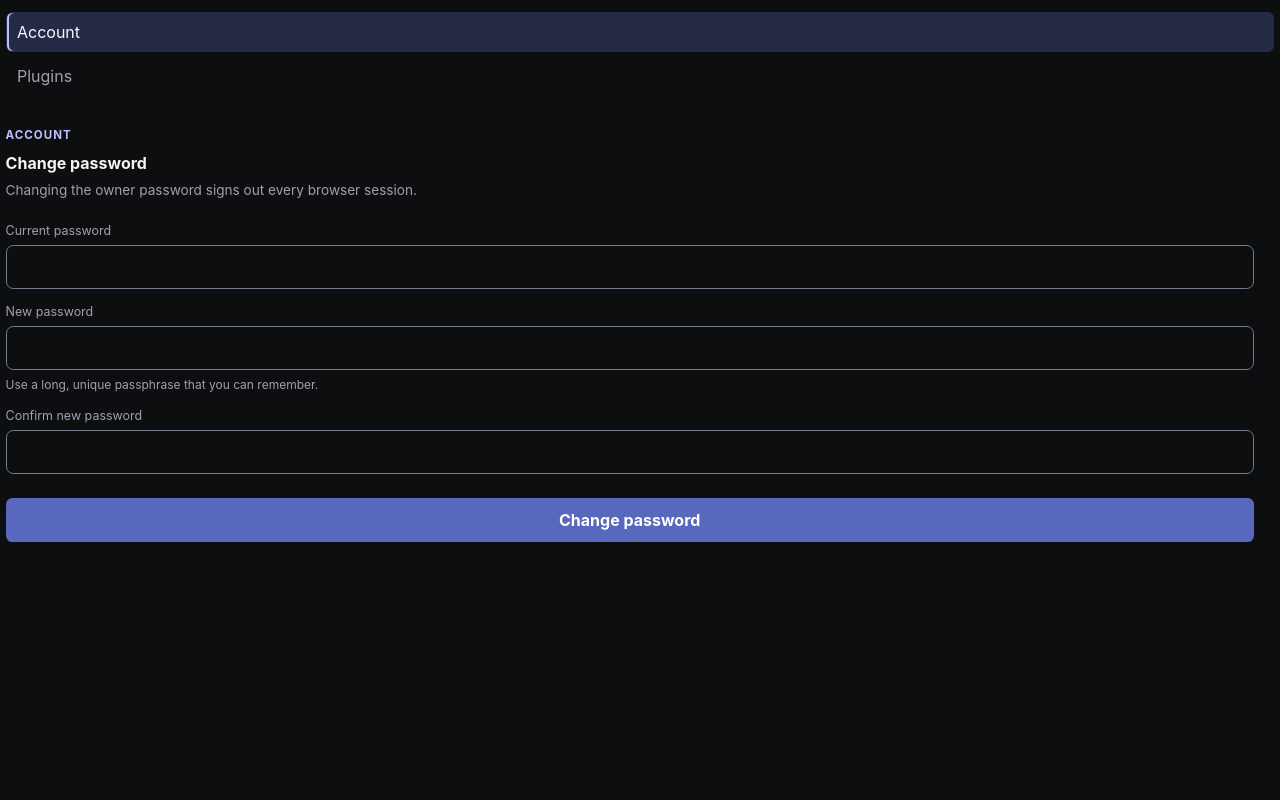
Test: owner Settings › rejects mismatched confirmation locally without transmitting credentials
The image size is (1280, 800).
In the password field labelled "Current password": x=630, y=267 [6,245,1254,289], type "old"
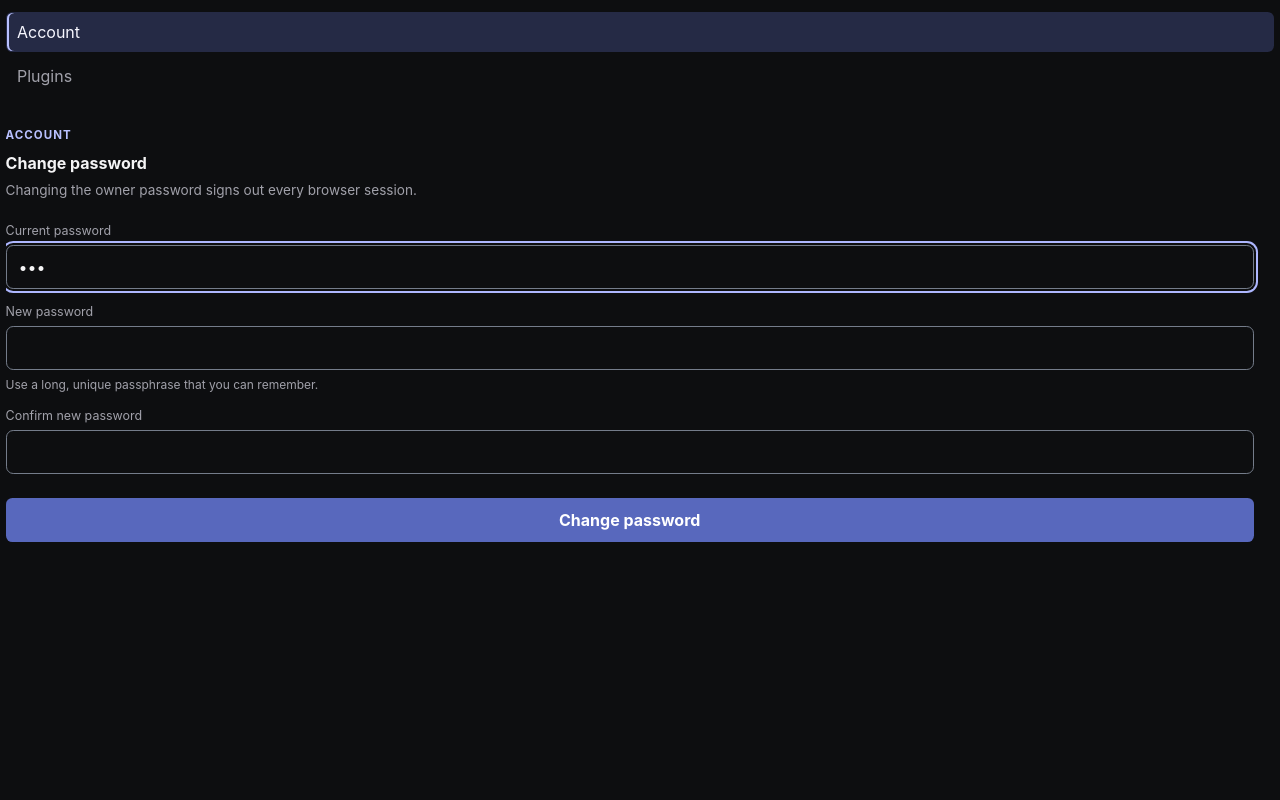
In the password field labelled "New password": x=630, y=348 [6,326,1254,370], type "first"
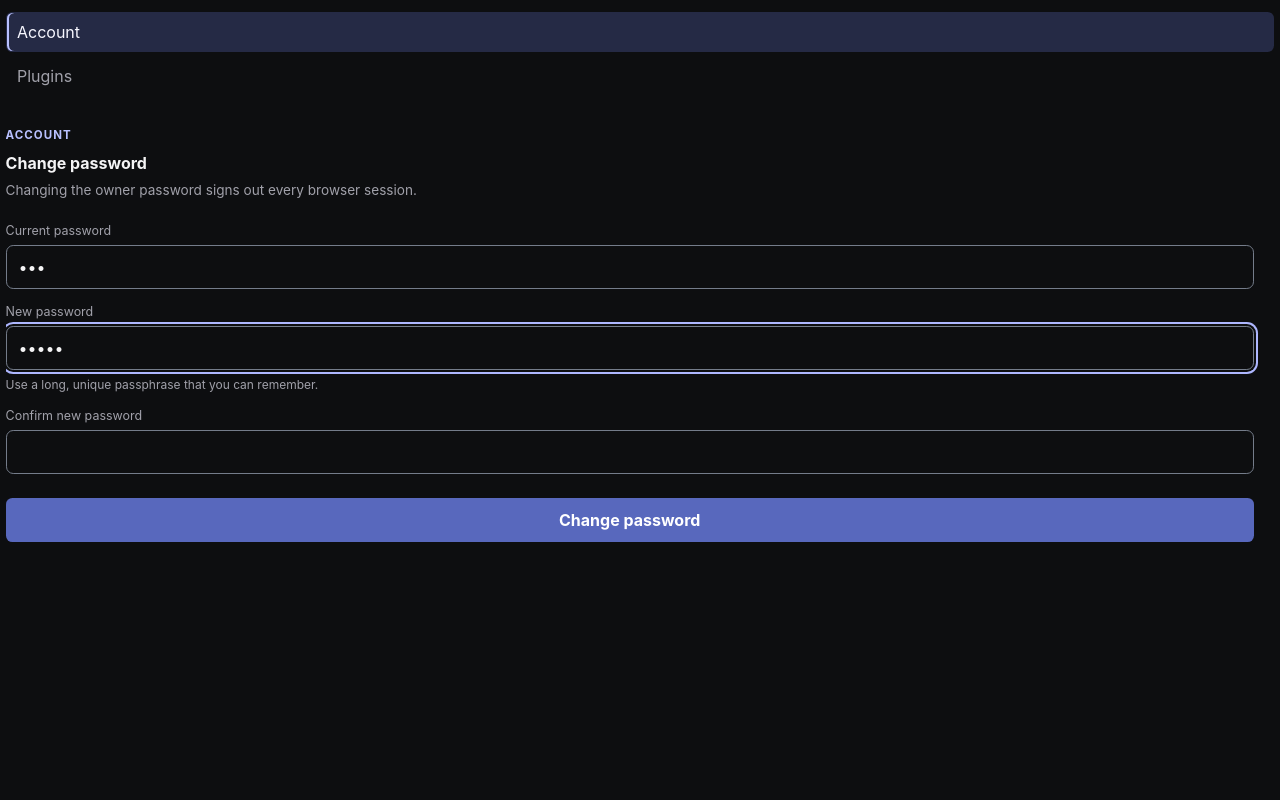
In the password field labelled "Confirm new password": x=630, y=452 [6,430,1254,474], type "different"
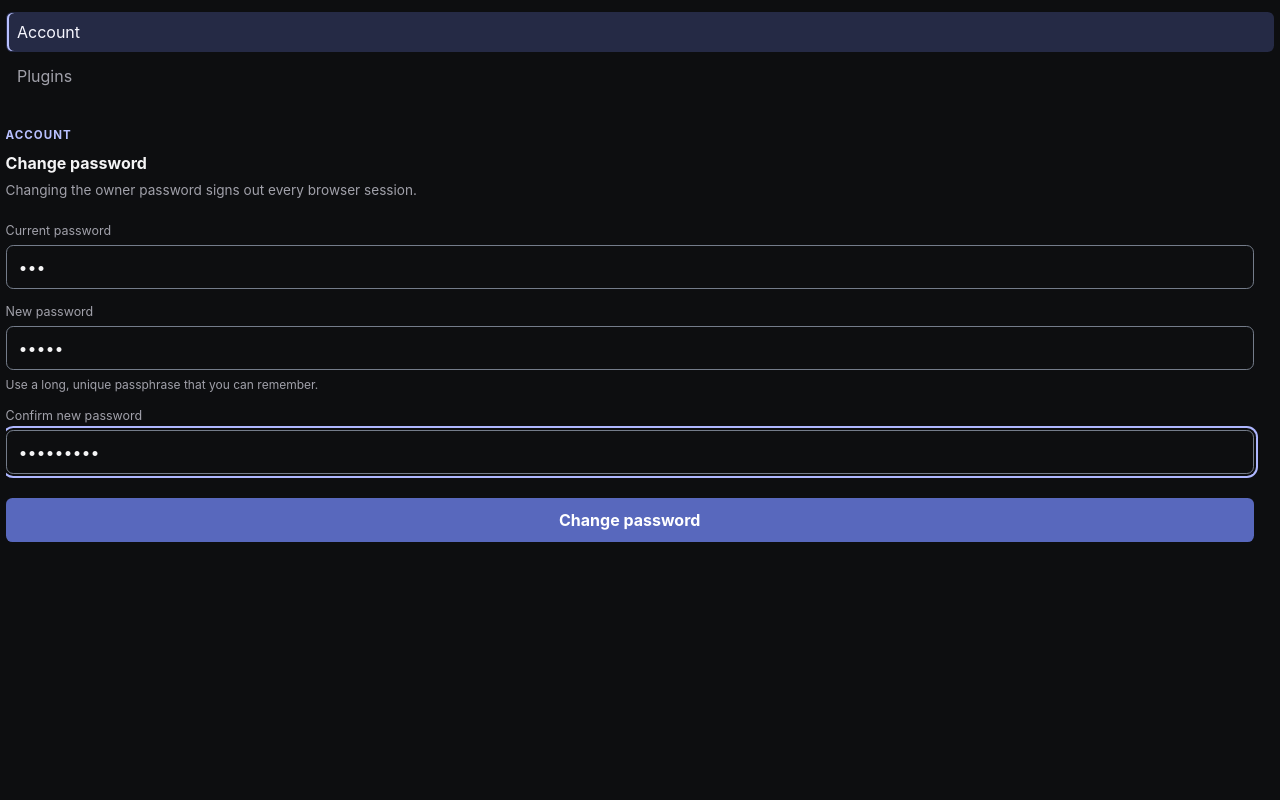
Click the button "Change password": x=630, y=520 [6,498,1254,542]
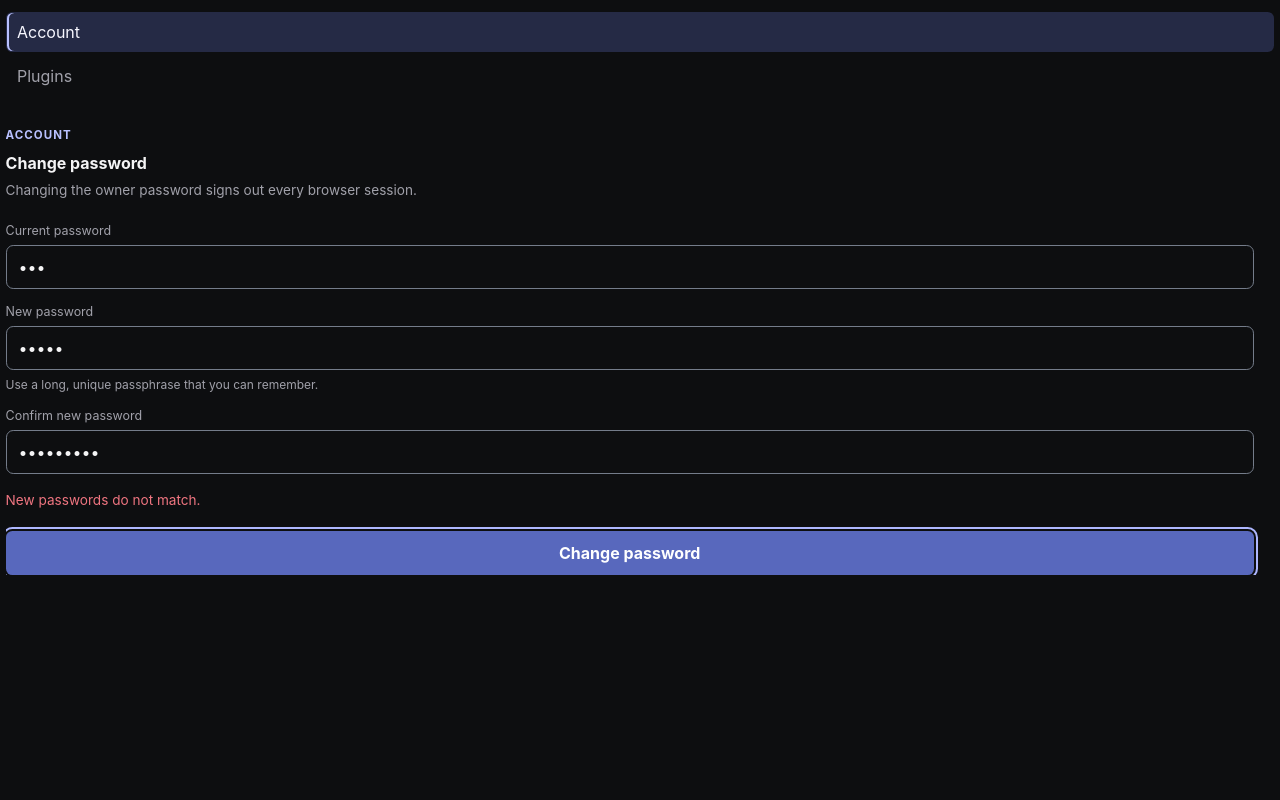
Now the message reads "New passwords do not match.", box [6,492,200,508]
